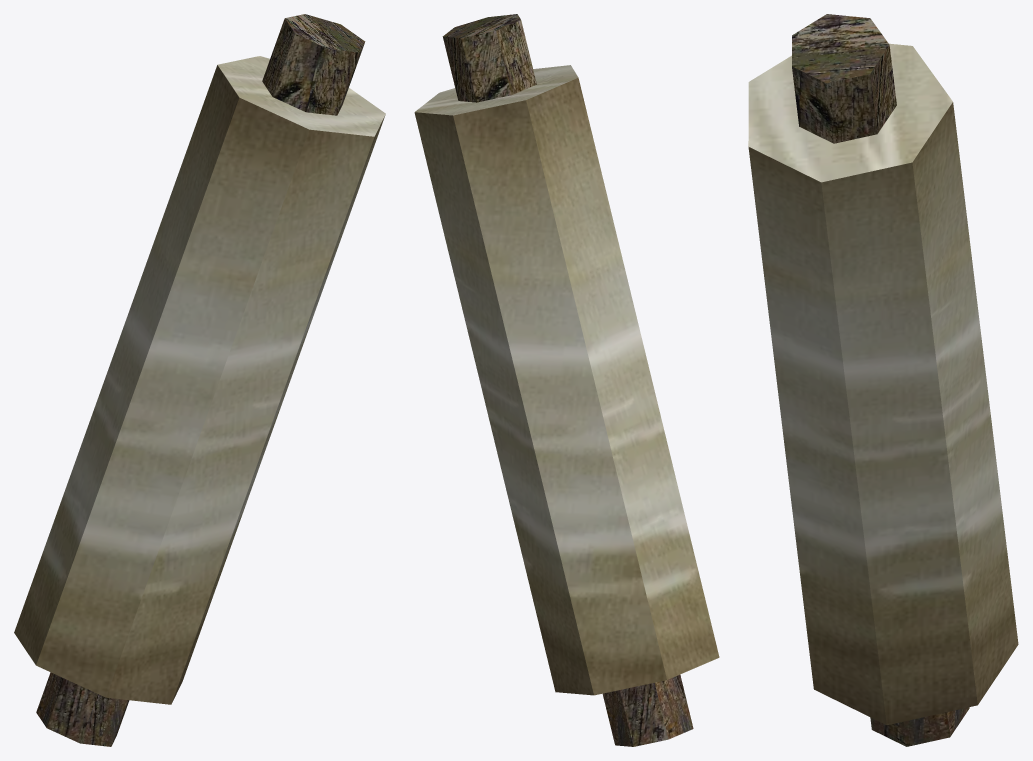
File: ITFO_GS_BAWELNA.glb
3 renders of one model, left to right at view 1: azimuth 30°, elevation 25°; view 2: azimuth 150°, elevation 25°; view 3: azimuth 270°, elevation 25°, orthographic. The views are drawn at different scales.
Parts seen in each view (by area): view 1: ITFO_GS_BAWELNA; view 2: ITFO_GS_BAWELNA; view 3: ITFO_GS_BAWELNA.
Boxes of the visible parts, box(x1,y1,x2,y2) form: ITFO_GS_BAWELNA: box(14, 14, 385, 746); ITFO_GS_BAWELNA: box(414, 14, 719, 746); ITFO_GS_BAWELNA: box(748, 14, 1018, 746).
Size of the model in its own units: 0.4007 by 0.8224 by 0.2464.
2 materials, 2 textured.
